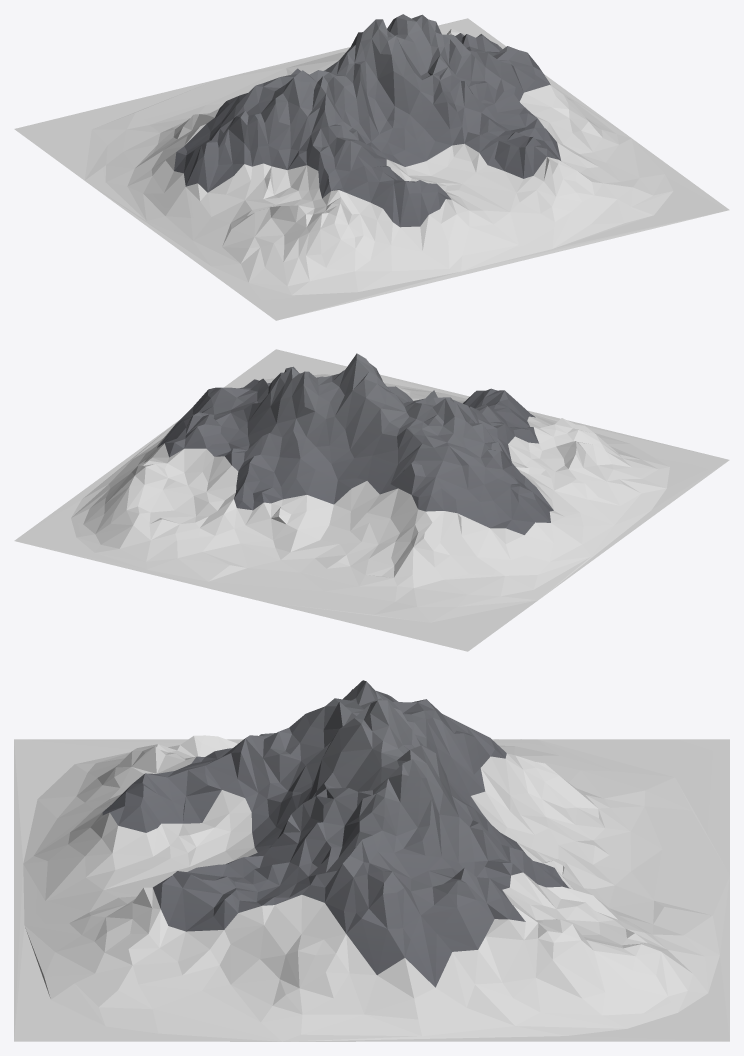
The model's file is Landscape_06.fbx.
3 renders of one model, top to bottom at view 1: azimuth 30°, elevation 25°; view 2: azimuth 150°, elevation 25°; view 3: azimuth 270°, elevation 25°, orthographic. The views are drawn at different scales.
Parts seen in each view (by area): view 1: Landscape_06; view 2: Landscape_06; view 3: Landscape_06.
Boxes of the visible parts, bbox=[...] form: Landscape_06: bbox=[14, 14, 729, 320]; Landscape_06: bbox=[14, 349, 729, 651]; Landscape_06: bbox=[14, 680, 729, 1041].
Bounding box in the file's own units: 10000 × 3065 × 10000.
